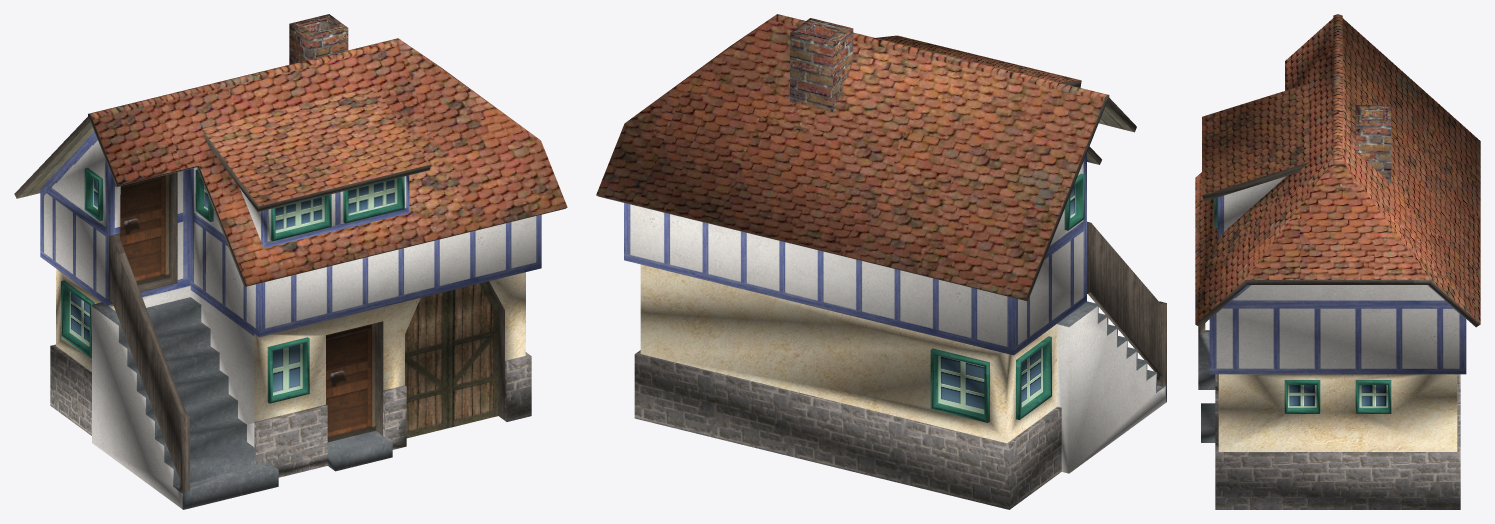
File: house_1.fbx
3 renders of one model, left to right at view 1: azimuth 30°, elevation 25°; view 2: azimuth 150°, elevation 25°; view 3: azimuth 270°, elevation 25°, orthographic. The views are drawn at different scales.
Visible parts, largest first — view 1: NoName_1; view 2: NoName_1; view 3: NoName_1.
Boxes of the visible parts, box(x1,y1,x2,y2) form: NoName_1: box(14, 14, 567, 509); NoName_1: box(596, 14, 1166, 509); NoName_1: box(1195, 14, 1480, 509).
Bounding box in the file's own units: 7 × 6 × 4.6.
1 material, 1 textured.
